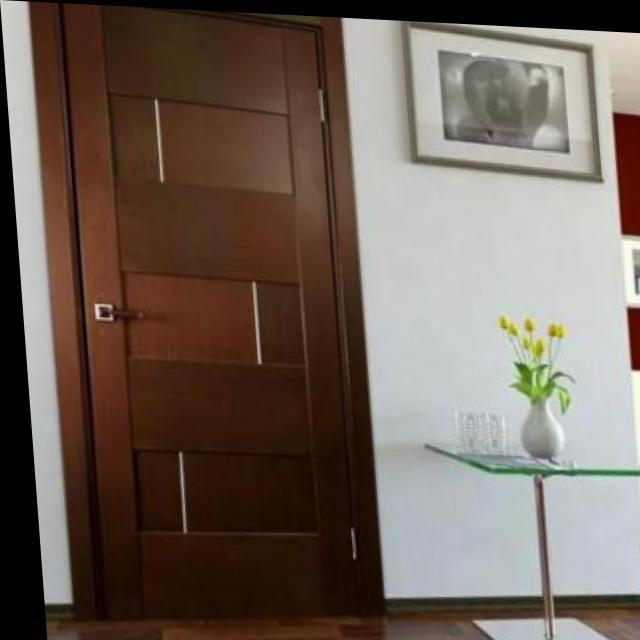door_handle: (83, 301, 146, 328)
